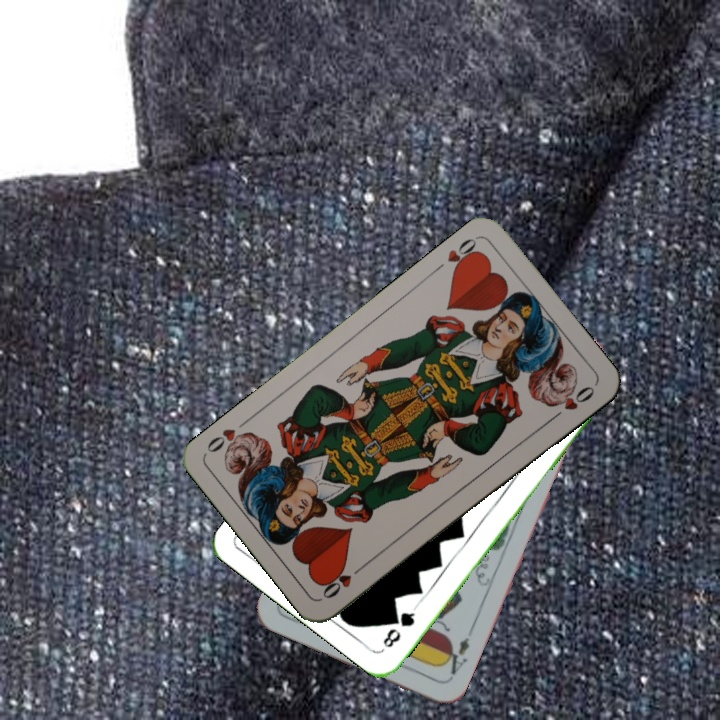EA: (438, 633, 472, 682)
G8: (378, 602, 420, 651)
HO: (318, 559, 368, 602), (443, 233, 483, 278)
